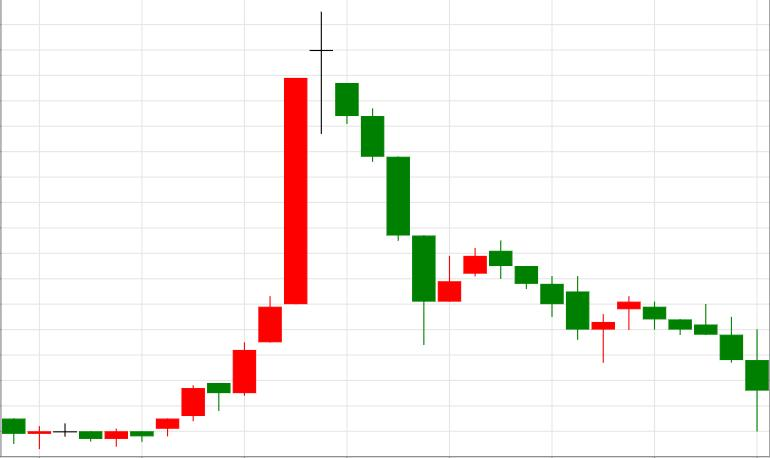three_black_crows_fall: (156, 11, 410, 437)
